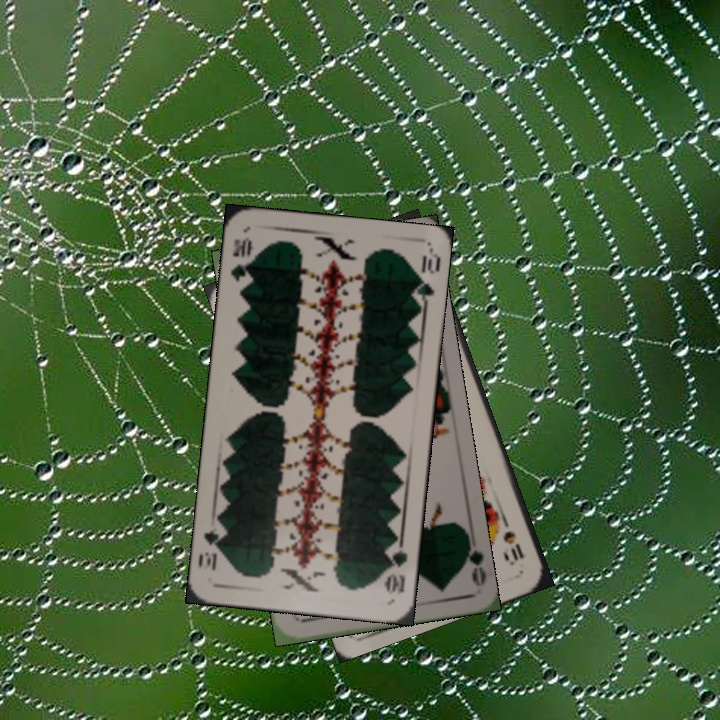G10: (381, 538, 410, 597), (226, 233, 255, 285)
GO: (458, 529, 488, 587)
S10: (498, 512, 527, 567)
